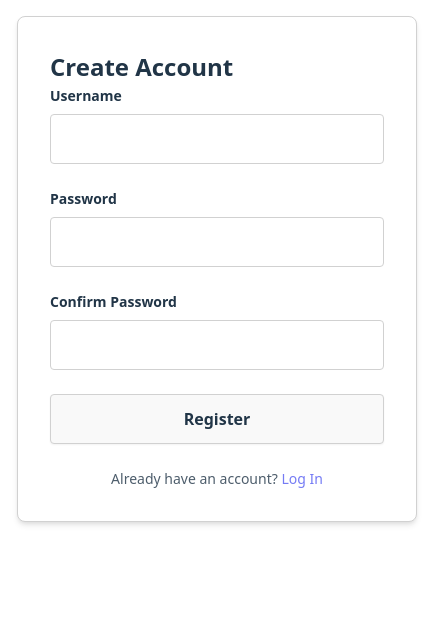
Test: SignupForm › shows error message when authApi.signup() returns an error
// --- Act ---
Type "existing" into the field labelled "Username" at (217, 139), box [50,114,384,164]
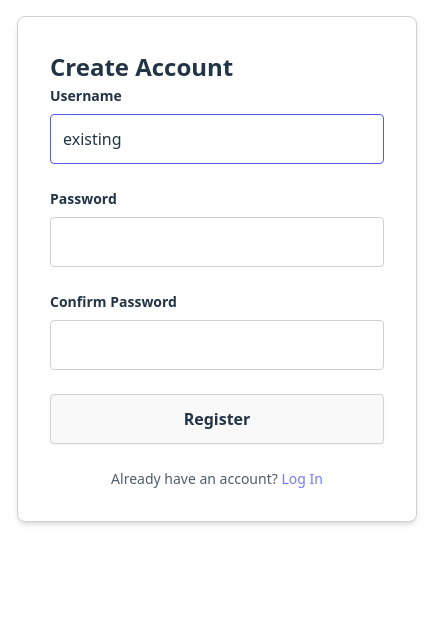
Type "Password1" into the password field labelled "Password" at (217, 242), box [50,217,384,267]
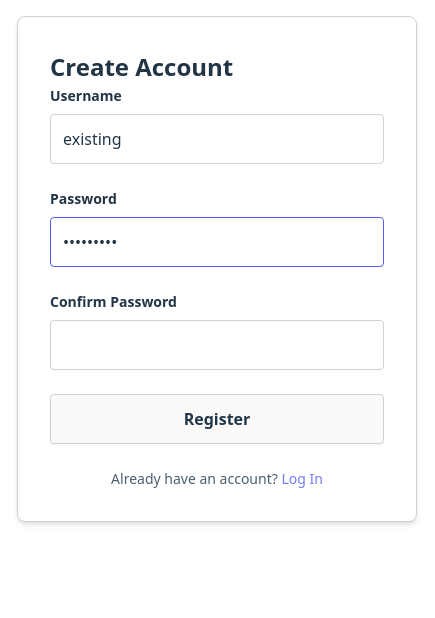
Type "Password1" into the password field labelled "Confirm Password" at (217, 345), box [50,320,384,370]
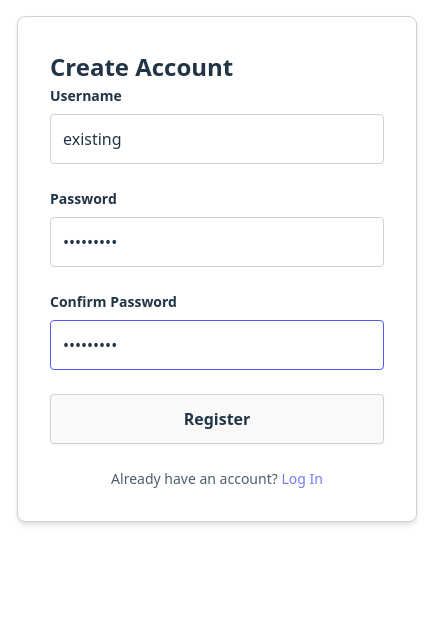
Click the button "Register" at (217, 419), box [50,394,384,444]
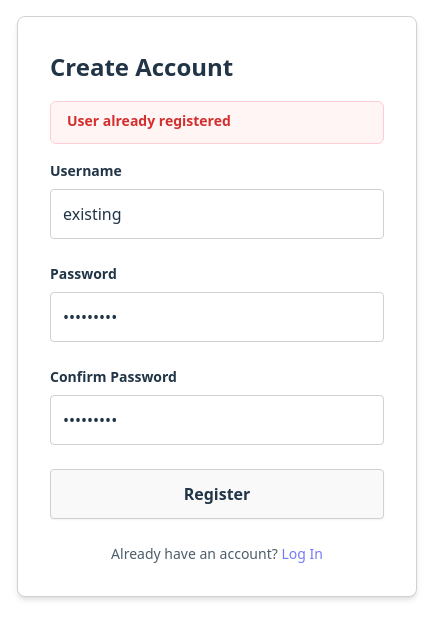
Result: the text "User already registered" is shown at [67,111,231,130]
